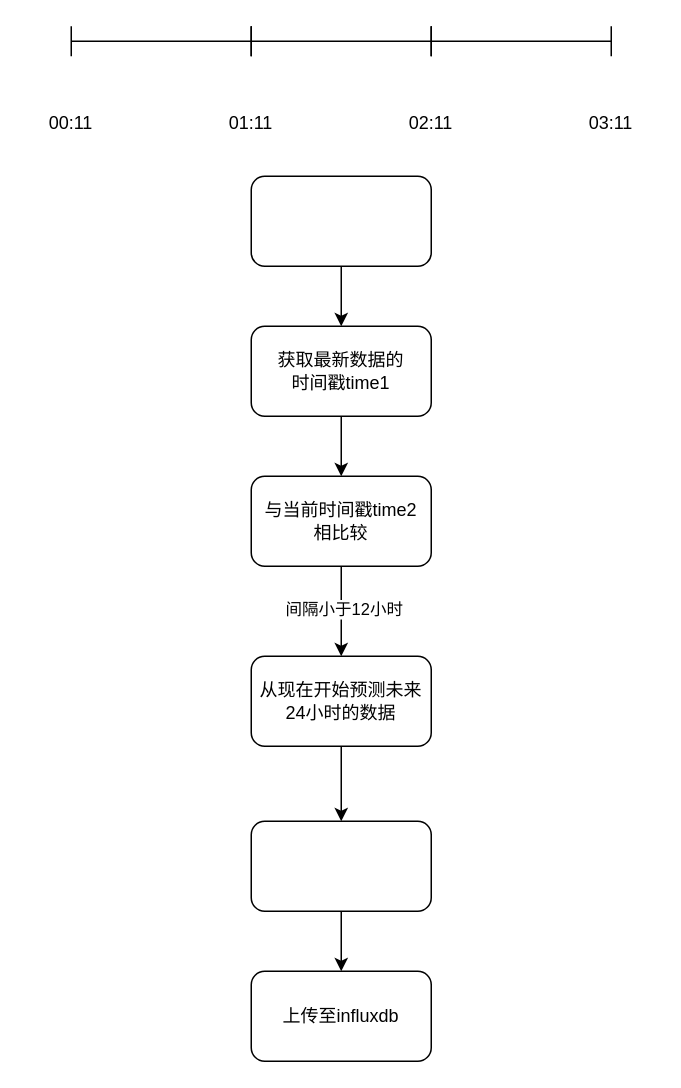
Image size: 681x1088. Some labels were removed from this diagram. The shapes that lost their labels are listed below. From the top down, each one's box as (x1, y1, x2, y2) in pixels, then its label:
(250, 175, 431, 266): 每隔1小时检查一次
(250, 820, 431, 911): 从未来24小时的时间里取从最新数据时间戳开始到结尾的数据
